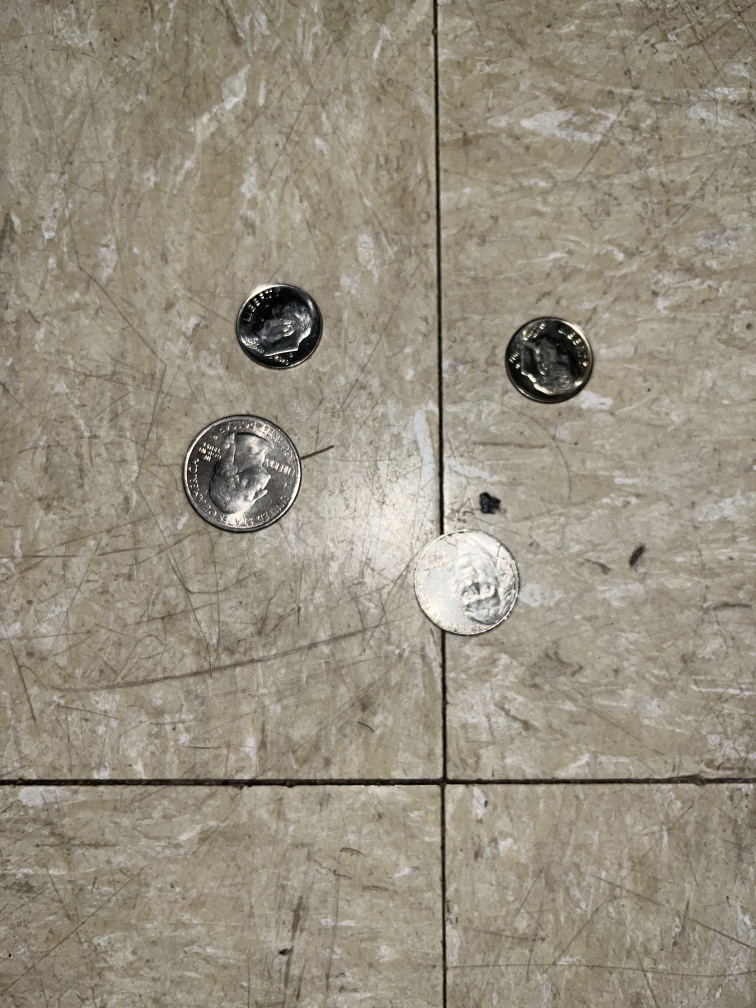dime: (502, 314, 596, 404), (234, 281, 323, 372)
nickel: (407, 525, 527, 648)
quarter: (179, 410, 309, 535)
